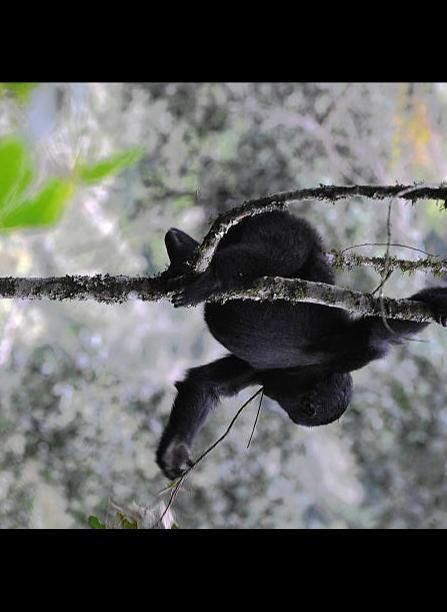goriile_montagne: (125, 205, 447, 527)
